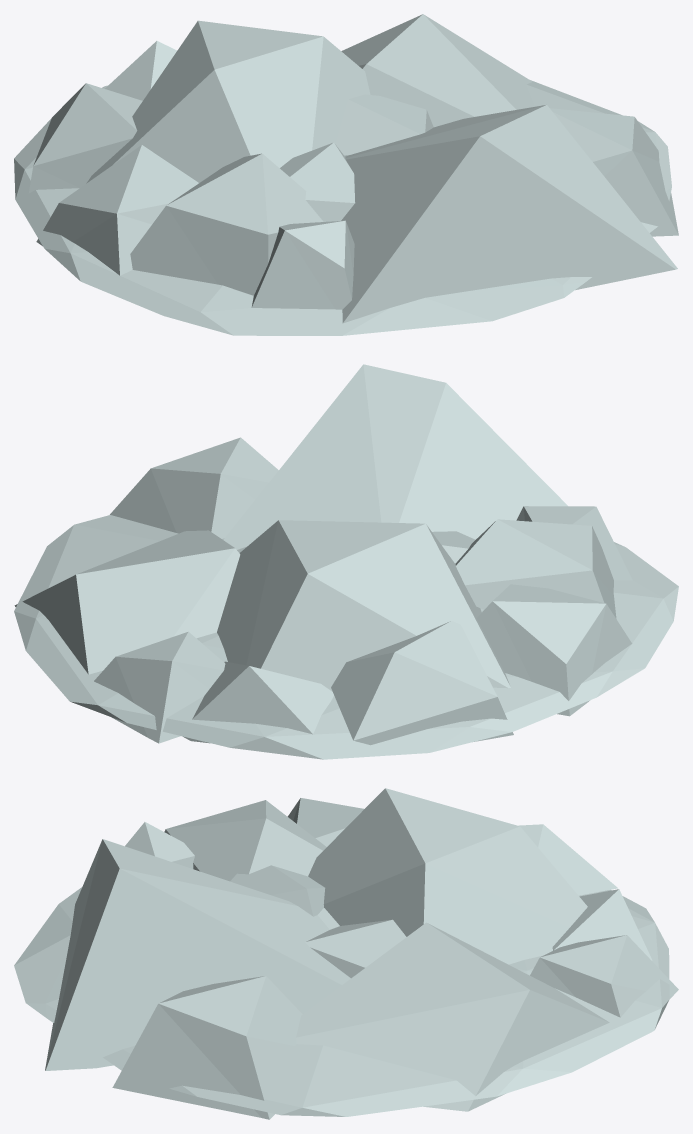
The model's file is SilverPileBag.fbx.
The picture shows the model from 3 angles, top to bottom: view 1: azimuth 30°, elevation 25°; view 2: azimuth 150°, elevation 25°; view 3: azimuth 270°, elevation 25°; orthographic projection.
Visible parts, largest first — view 1: SilverPileBag; view 2: SilverPileBag; view 3: SilverPileBag.
Boxes of the visible parts, box(x1,y1,x2,y2) form: SilverPileBag: box(14, 14, 678, 335); SilverPileBag: box(14, 364, 678, 759); SilverPileBag: box(14, 788, 678, 1119).
Bounding box in the file's own units: 33.94 × 8.93 × 33.98.
